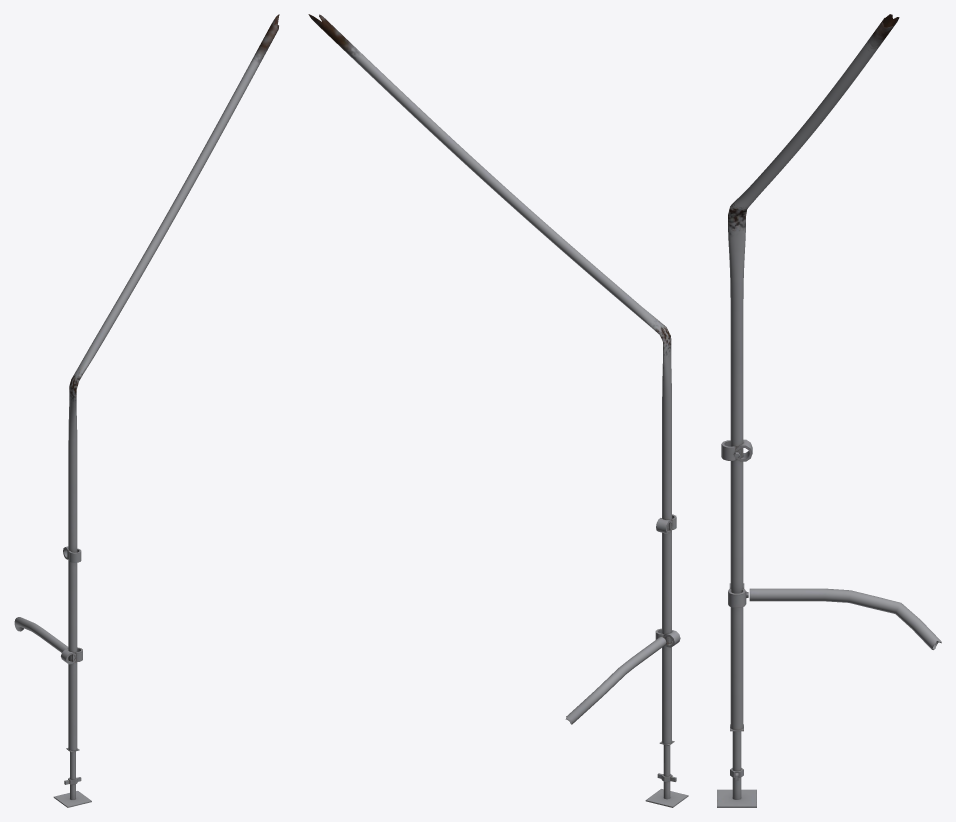
File: industrial_scaffold_pole_bent.glb
3 renders of one model, left to right at view 1: azimuth 30°, elevation 25°; view 2: azimuth 150°, elevation 25°; view 3: azimuth 270°, elevation 25°, orthographic. The views are drawn at different scales.
Parts seen in each view (by area): view 1: industrial_scaffold_pole_bent_paint; view 2: industrial_scaffold_pole_bent_paint; view 3: industrial_scaffold_pole_bent_paint.
Part boxes in pixels (x1=…): industrial_scaffold_pole_bent_paint: x1=14, y1=14, x2=279, y2=807; industrial_scaffold_pole_bent_paint: x1=308, y1=14, x2=688, y2=807; industrial_scaffold_pole_bent_paint: x1=717, y1=14, x2=941, y2=807.
Size of the model in its own units: 1.7 by 4.01 by 0.8466.
Materials: 1 (1 with a texture image).
